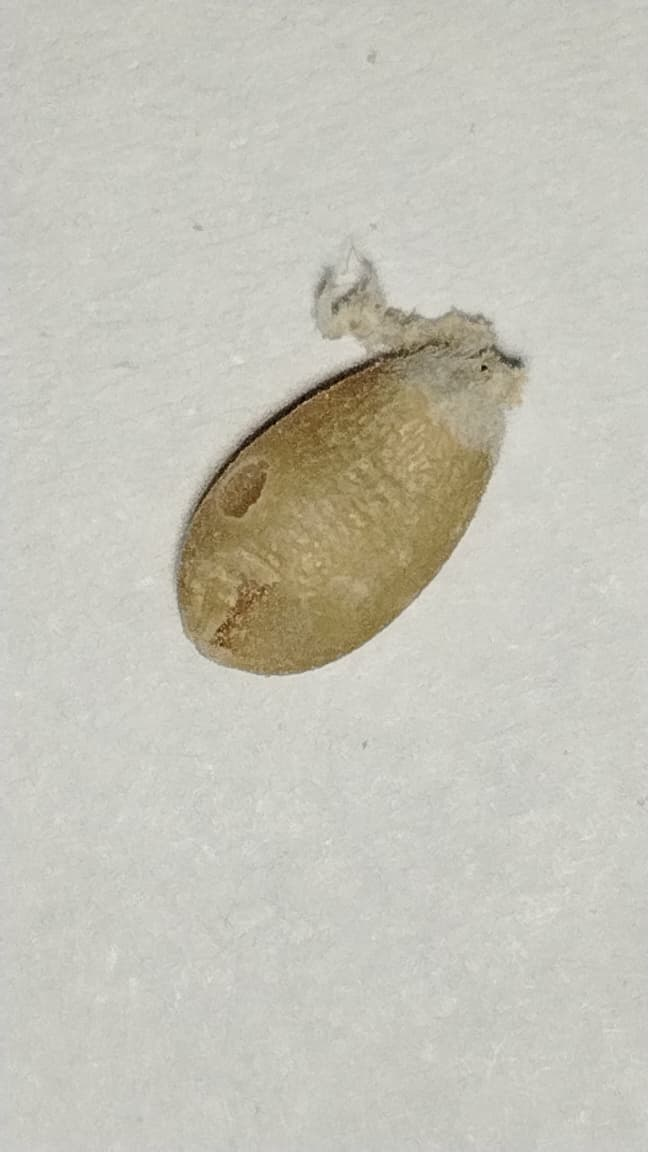damage: (178, 261, 518, 672)
insectdamage: (212, 442, 270, 539)
molddamage: (311, 259, 563, 417)
